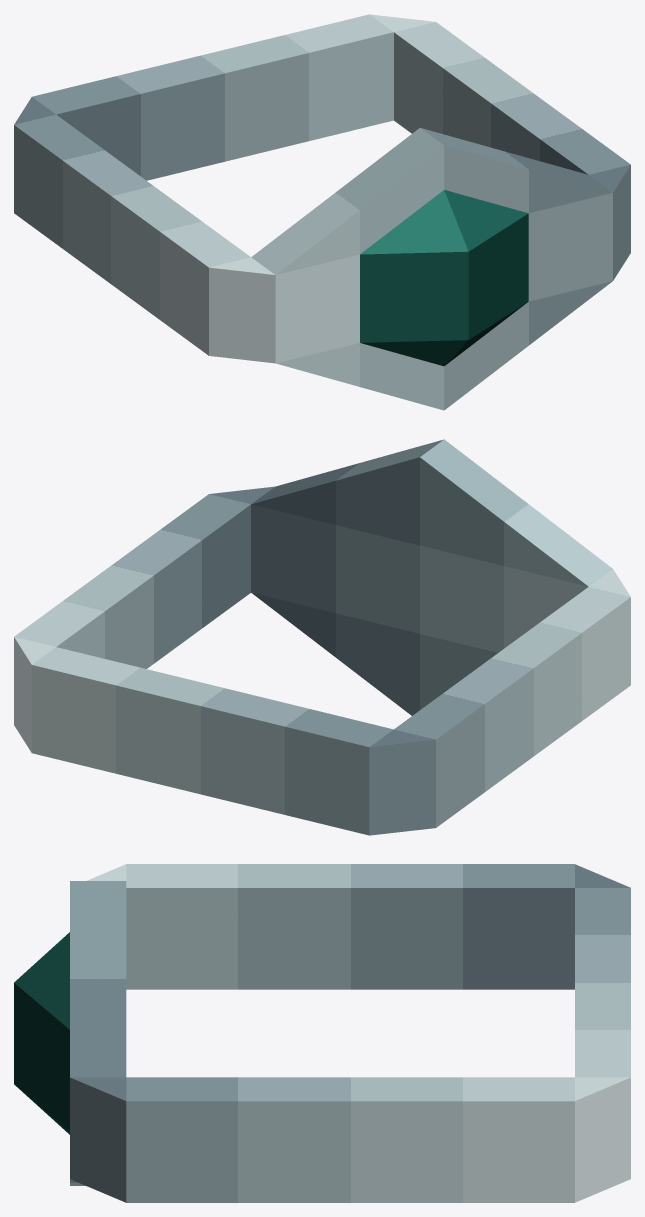
Rendered from bracelet_antidote.obj.
3 renders of one model, top to bottom at view 1: azimuth 30°, elevation 25°; view 2: azimuth 150°, elevation 25°; view 3: azimuth 270°, elevation 25°, orthographic. The views are drawn at different scales.
Parts seen in each view (by area): view 1: BRACELET_BASE_SILVER_Cube, BRACELET_DECO_ANTIDOTE_Cube.033; view 2: BRACELET_BASE_SILVER_Cube, BRACELET_DECO_ANTIDOTE_Cube.033; view 3: BRACELET_BASE_SILVER_Cube, BRACELET_DECO_ANTIDOTE_Cube.033.
Boxes of the visible parts, x1,y1,x2,y2 form: BRACELET_BASE_SILVER_Cube: (14, 14, 630, 363); BRACELET_DECO_ANTIDOTE_Cube.033: (251, 128, 612, 410); BRACELET_BASE_SILVER_Cube: (14, 486, 630, 835); BRACELET_DECO_ANTIDOTE_Cube.033: (251, 439, 612, 715); BRACELET_BASE_SILVER_Cube: (70, 864, 630, 1202); BRACELET_DECO_ANTIDOTE_Cube.033: (14, 881, 126, 1185).
Size of the model in its own units: 0.3125 by 0.1875 by 0.3438.
